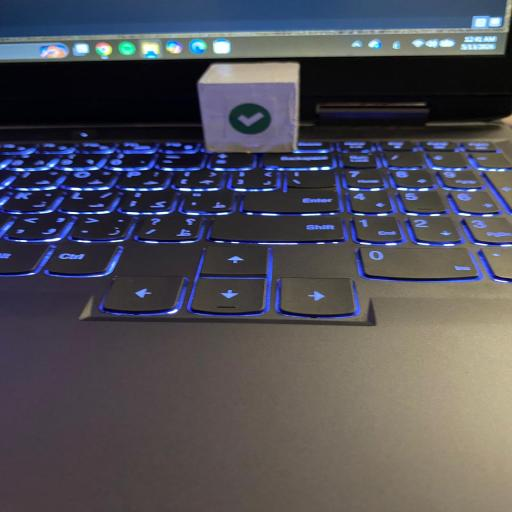Confirm: (196, 61, 304, 155)
